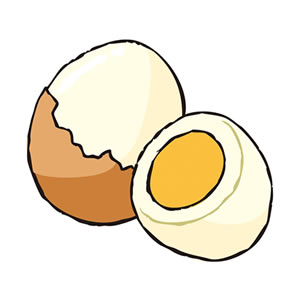egg: (19, 31, 188, 245), (128, 108, 282, 268)
